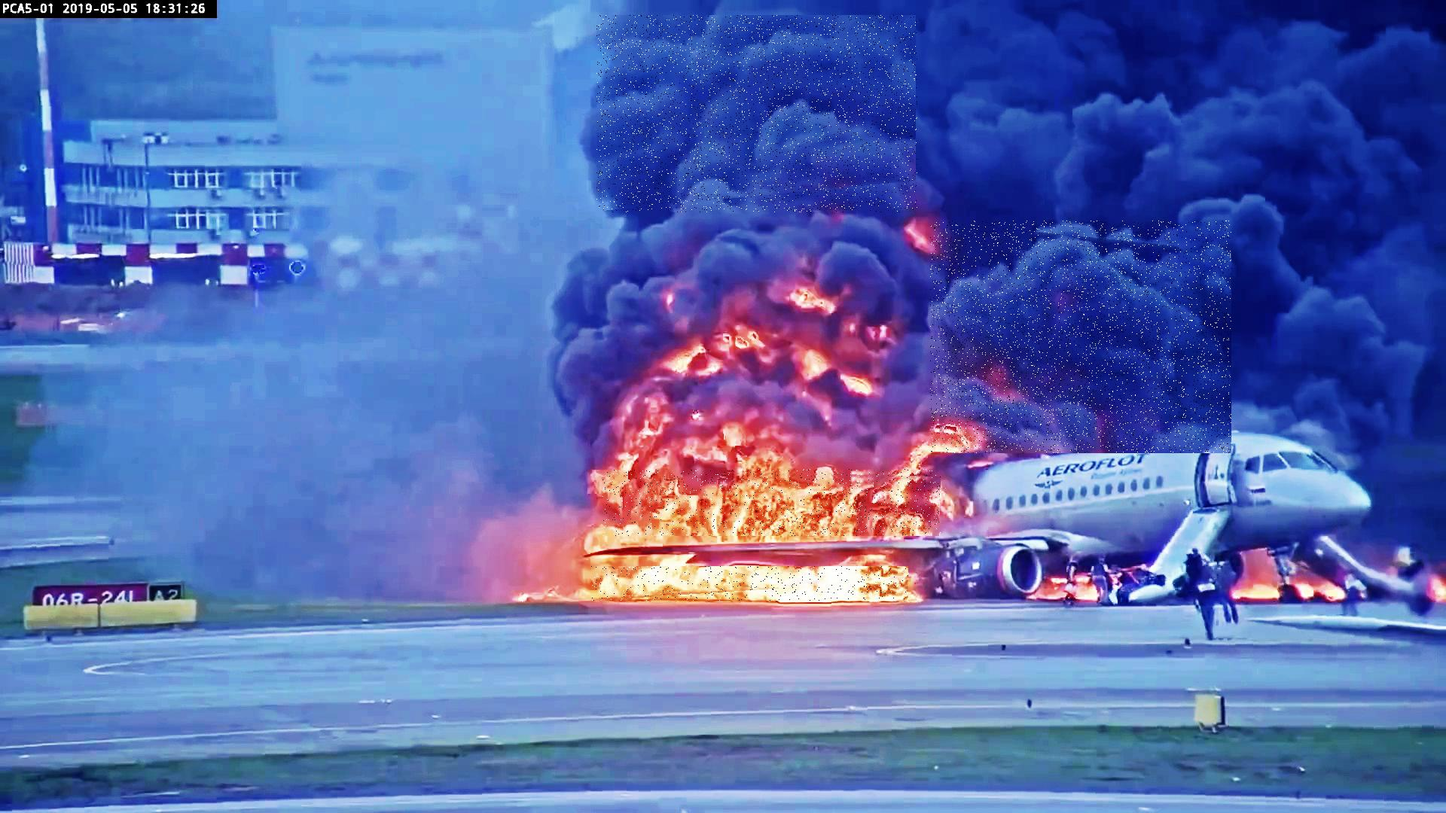fire: (603, 469, 941, 536), (592, 566, 910, 601)
smoke: (930, 221, 1231, 453), (597, 15, 918, 213)
